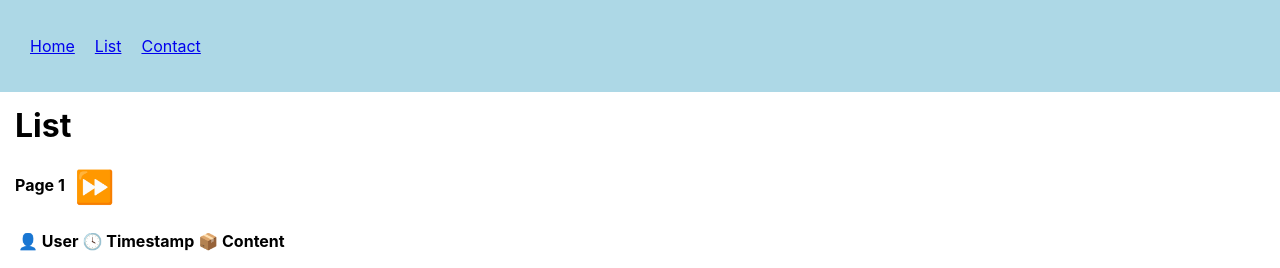
List › should load page next page and then display Page 2
The width and height of the screenshot is (1280, 268).
What coordinates should you click on to do the following:
click the button with id "nextPage"
I would click on:
 (95, 187)
Its box is [69,167,121,207].
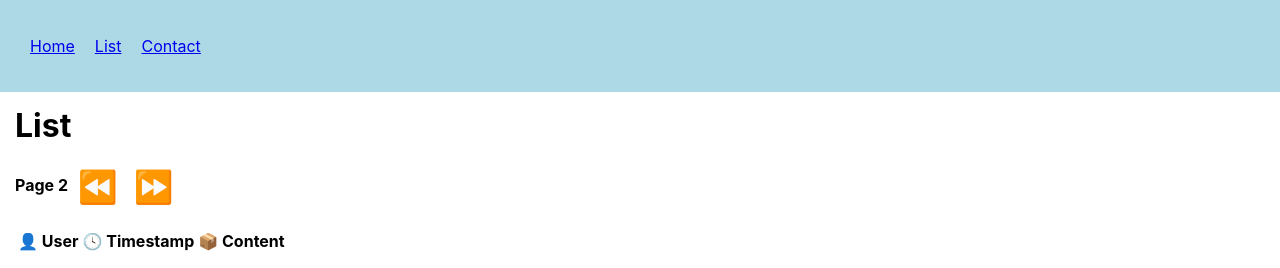
Now the heading "Page 2 ⏪ ⏩" is shown, box [15,167,179,207]
